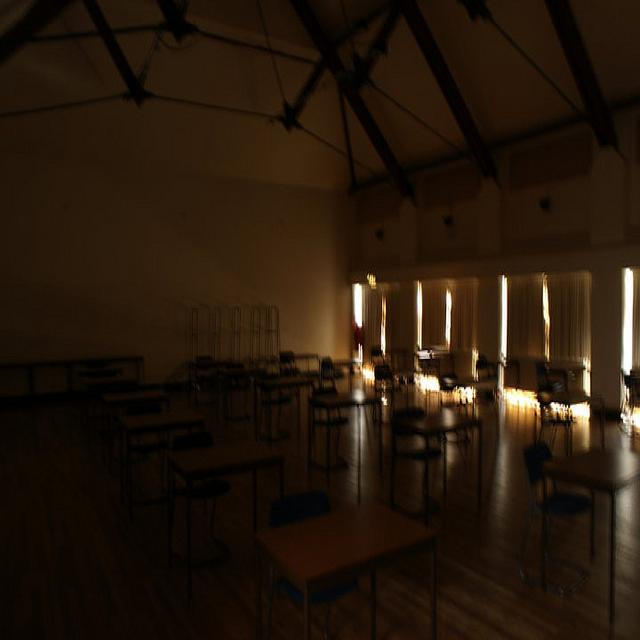Table: (247, 478, 446, 632), (66, 374, 206, 499), (150, 419, 286, 536), (553, 430, 640, 575), (418, 395, 497, 508), (318, 374, 381, 452), (270, 358, 315, 413)
chair: (518, 434, 566, 538), (391, 394, 436, 481), (526, 355, 581, 425), (474, 340, 507, 402)
